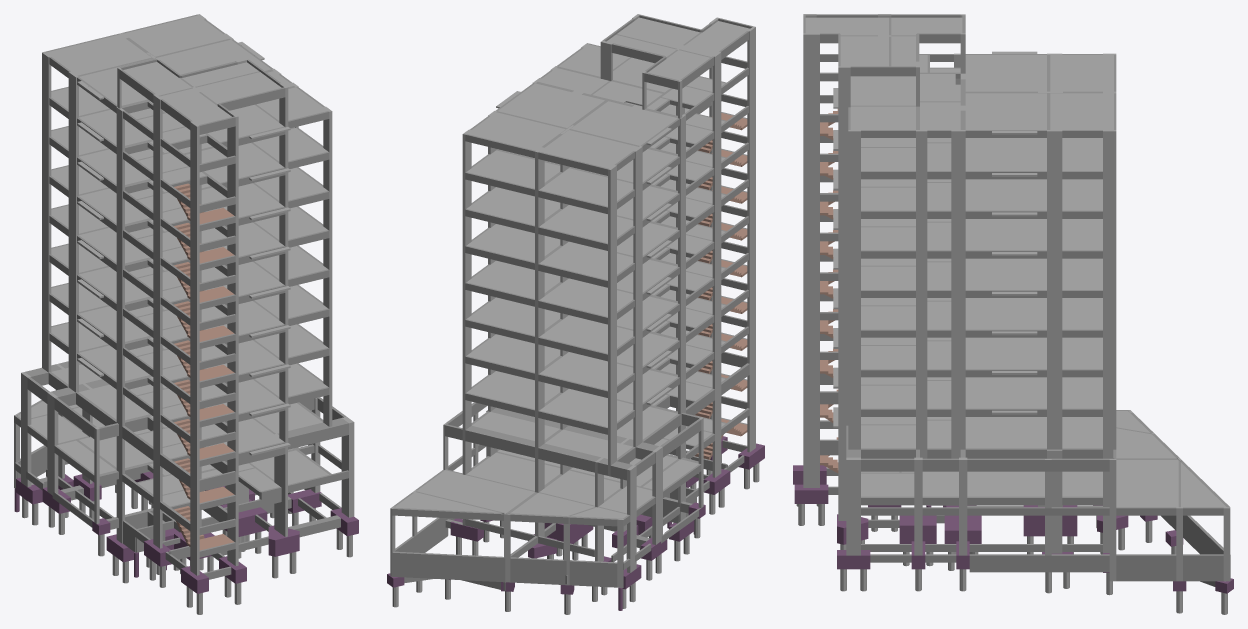
File: building.glb
The picture shows the model from 3 angles, left to right: view 1: azimuth 30°, elevation 25°; view 2: azimuth 150°, elevation 25°; view 3: azimuth 270°, elevation 25°; orthographic projection. The views are drawn at different scales.
Visible parts, largest first — view 1: L411, L403, L412, V411, ESCADA-1, L401, P26, P22, P27, P24, P16, P32 (+66 smaller); view 2: L401, L402, V401, V411, L403, VB101, P22, P26, P7, ESCADA-1, P8, P16 (+59 smaller); view 3: L404, V417, L402, L412, P27, VB119, P13, P8, L409, P24, P28, P29 (+51 smaller).
Boxes of the visible parts, left/top/right/bottom form: L411: left=186, top=143, right=283, bottom=413; L403: left=79, top=108, right=153, bottom=380; L412: left=253, top=128, right=327, bottom=396; V411: left=49, top=97, right=190, bottom=442; ESCADA-1: left=174, top=183, right=234, bottom=550; L401: left=51, top=86, right=109, bottom=351; P26: left=190, top=121, right=199, bottom=575; P22: left=153, top=94, right=162, bottom=548; P27: left=227, top=110, right=238, bottom=565; P24: left=274, top=83, right=288, bottom=536; P16: left=116, top=67, right=124, bottom=543; P32: left=68, top=71, right=78, bottom=392; L401: left=539, top=168, right=633, bottom=426; L402: left=467, top=150, right=560, bottom=409; V401: left=465, top=172, right=607, bottom=434; V411: left=617, top=106, right=748, bottom=429; L403: left=572, top=149, right=677, bottom=402; VB101: left=391, top=551, right=623, bottom=587; P22: left=712, top=52, right=721, bottom=477; P26: left=747, top=26, right=755, bottom=452; P7: left=535, top=147, right=544, bottom=543; ESCADA-1: left=694, top=113, right=747, bottom=459; P8: left=462, top=129, right=471, bottom=525; P16: left=678, top=80, right=685, bottom=522; L404: left=965, top=138, right=1046, bottom=408; V417: left=861, top=171, right=1102, bottom=416; L402: left=1062, top=138, right=1102, bottom=408; L412: left=861, top=148, right=915, bottom=408; P27: left=803, top=33, right=819, bottom=487; VB119: left=870, top=554, right=1223, bottom=581; P13: left=1047, top=130, right=1062, bottom=553; P8: left=1103, top=130, right=1116, bottom=552; L409: left=927, top=143, right=951, bottom=408; P24: left=838, top=66, right=850, bottom=520; P28: left=951, top=130, right=965, bottom=458; P29: left=848, top=130, right=860, bottom=449.
Size of the model in its own units: 1.37 by 3.25 by 2.52.
